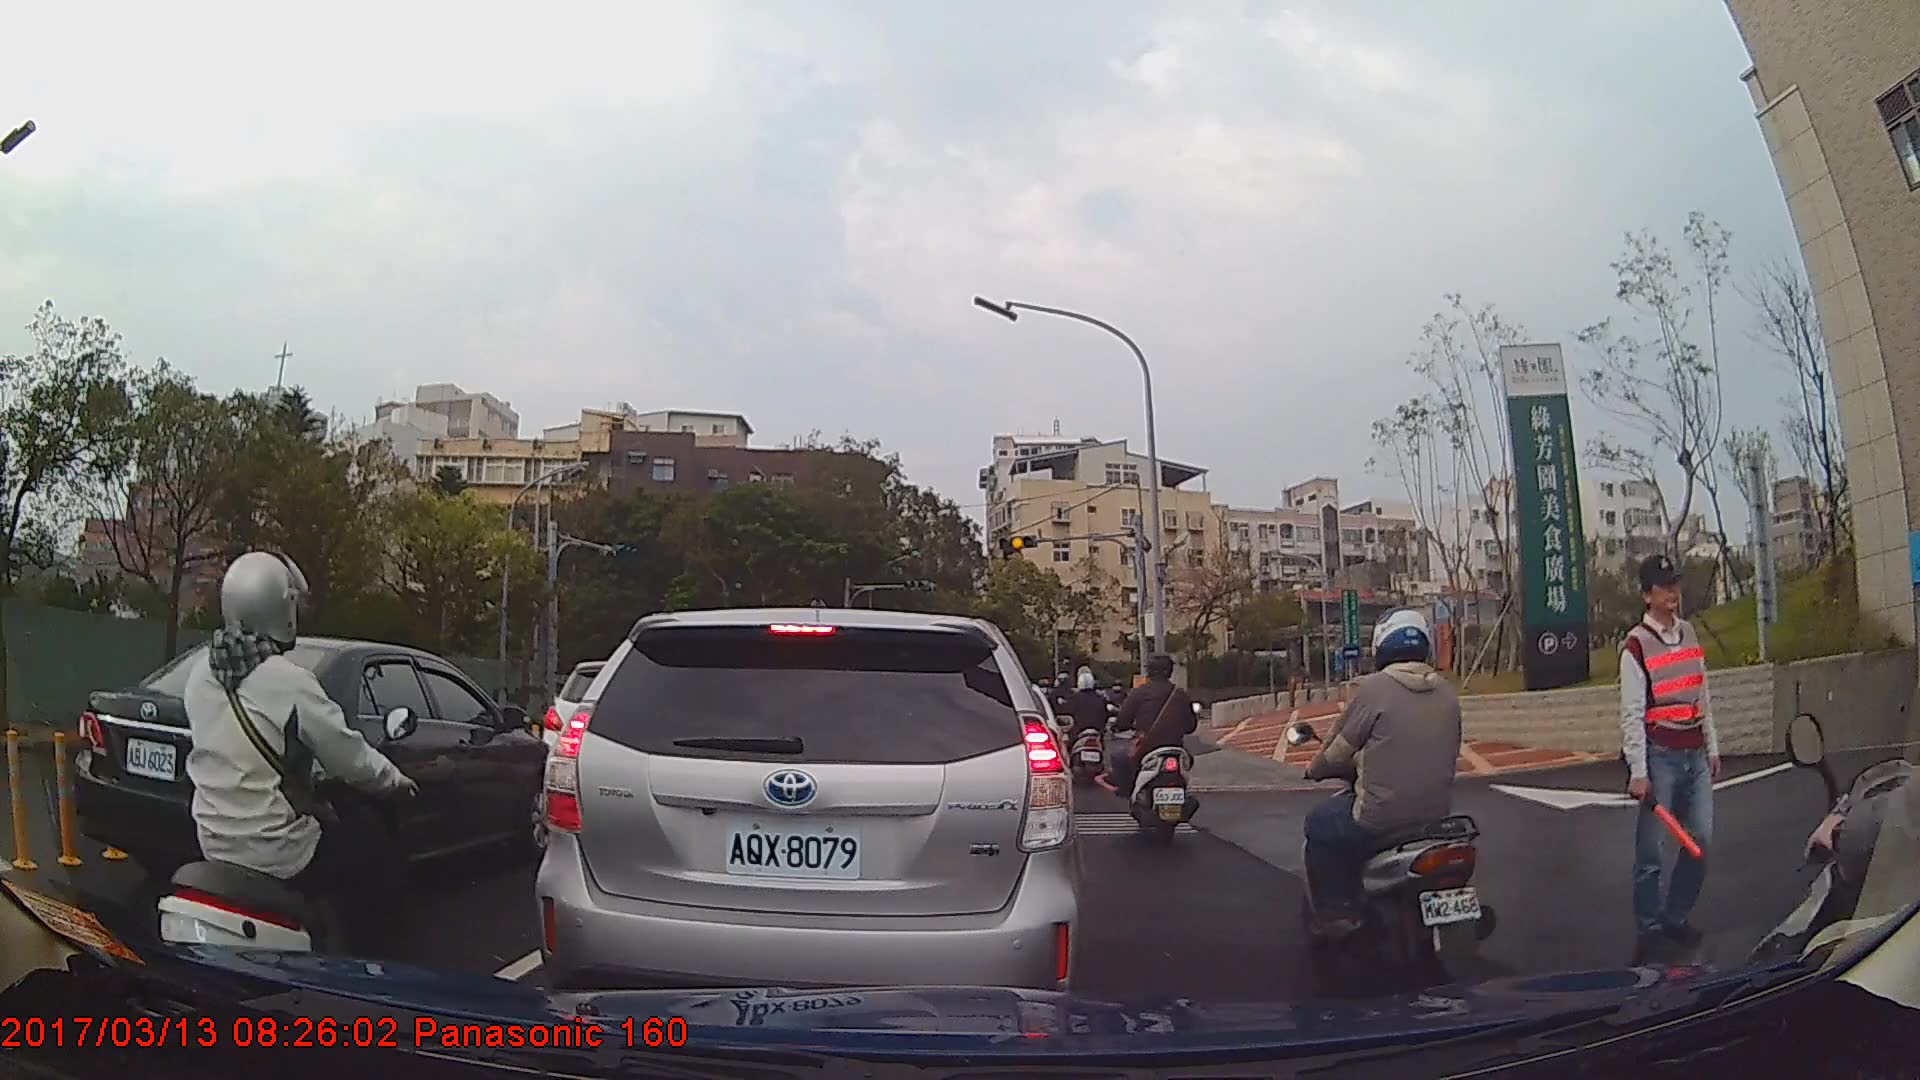pedestrian: (1617, 550, 1725, 955)
rider: (149, 543, 408, 1028), (1293, 608, 1490, 992), (1110, 653, 1202, 841), (1071, 666, 1117, 792)
vehicle: (530, 608, 1084, 1020), (68, 633, 561, 917)
